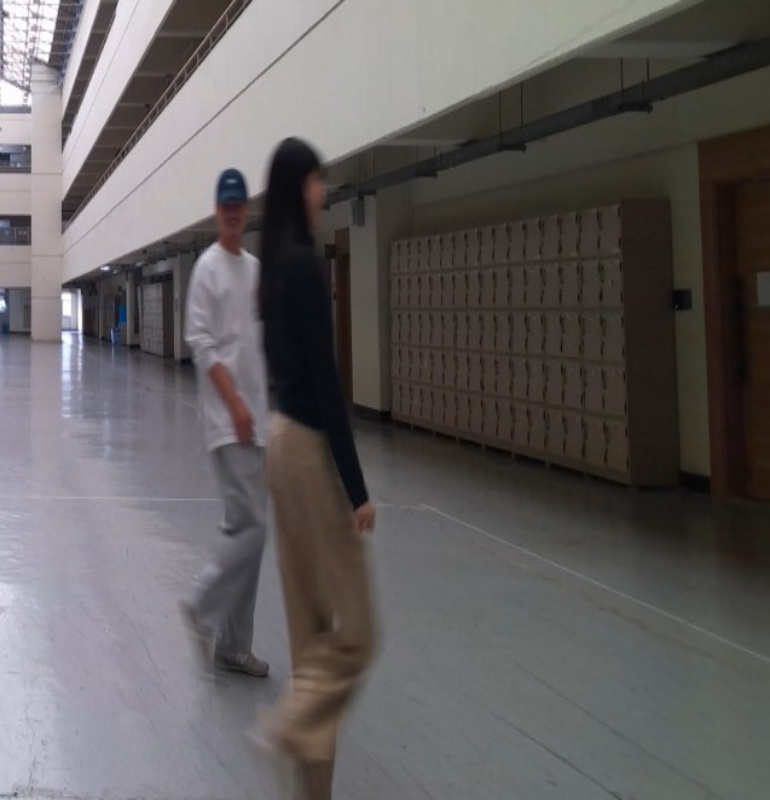person: (243, 134, 380, 800)
